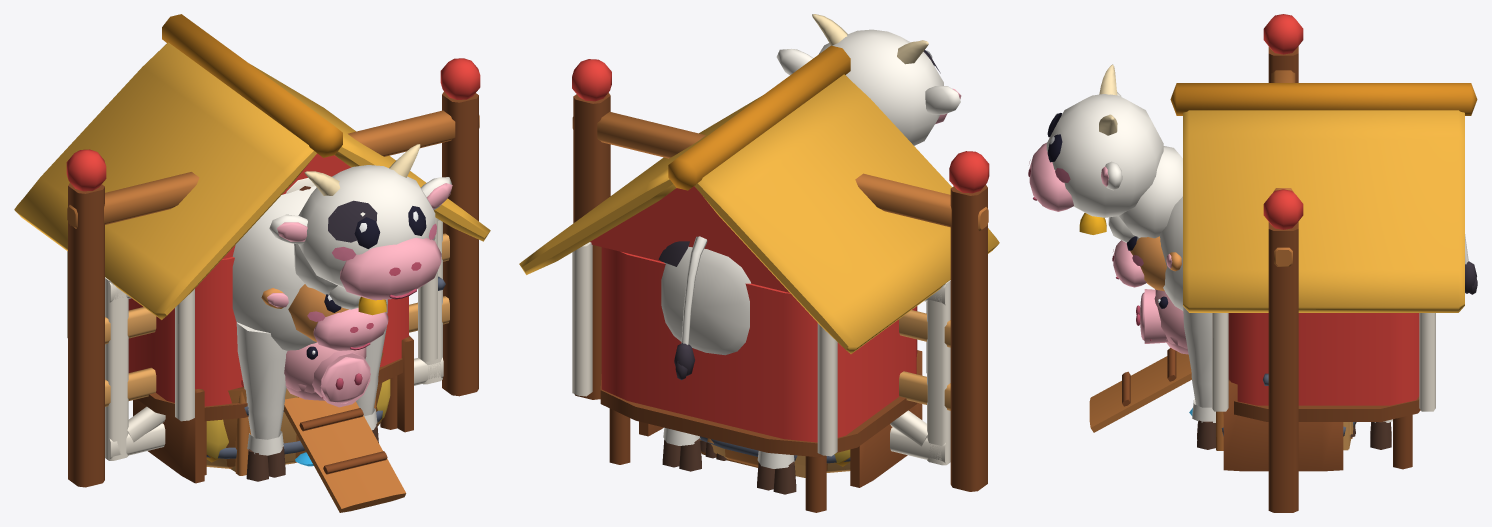
Rendered from farm.glb.
The picture shows the model from 3 angles, left to right: view 1: azimuth 30°, elevation 25°; view 2: azimuth 150°, elevation 25°; view 3: azimuth 270°, elevation 25°; orthographic projection. The views are drawn at different scales.
Visible parts, largest first — view 1: coop, pen_gate_frame, cow_head, cow_body, pen_gate_door, cow_leg_fl, calf_head, pig_head, feed_trough, pen_fence, water_trough, cow_leg_fr (+2 smaller); view 2: coop, pen_gate_frame, cow_head, cow_body, pen_gate_door, feed_trough, pen_fence, cow_tail, cow_leg_bl, cow_leg_br, water_trough; view 3: coop, cow_head, pen_gate_frame, feed_trough, cow_leg_fr, calf_head, pig_head, cow_body, cow_leg_br.
Part boxes in pixels (x1,y1,x2,y2): coop: [14, 14, 490, 512]; pen_gate_frame: [66, 58, 480, 487]; cow_head: [269, 144, 452, 315]; cow_body: [232, 186, 316, 350]; pen_gate_door: [105, 219, 445, 460]; cow_leg_fl: [236, 322, 287, 481]; calf_head: [261, 284, 388, 350]; pig_head: [284, 342, 370, 407]; feed_trough: [133, 335, 413, 483]; pen_fence: [105, 233, 449, 406]; water_trough: [206, 352, 385, 468]; cow_leg_fr: [356, 299, 387, 442]; coop: [519, 45, 999, 512]; pen_gate_frame: [572, 59, 989, 491]; cow_head: [776, 14, 961, 145]; cow_body: [658, 241, 750, 355]; pen_gate_door: [890, 280, 950, 465]; feed_trough: [639, 350, 922, 487]; pen_fence: [899, 310, 950, 410]; cow_tail: [674, 236, 707, 380]; cow_leg_bl: [757, 451, 796, 494]; cow_leg_br: [662, 427, 701, 471]; water_trough: [700, 436, 850, 472]; coop: [1089, 83, 1477, 469]; cow_head: [1028, 64, 1182, 242]; pen_gate_frame: [1263, 14, 1303, 512]; feed_trough: [1223, 379, 1343, 471]; cow_leg_fr: [1183, 306, 1215, 449]; calf_head: [1112, 236, 1181, 291]; pig_head: [1136, 289, 1188, 354]; cow_body: [1160, 196, 1183, 310]; cow_leg_br: [1370, 419, 1392, 449].
Bounding box in the file's own units: 2.19 × 1.78 × 2.17.
